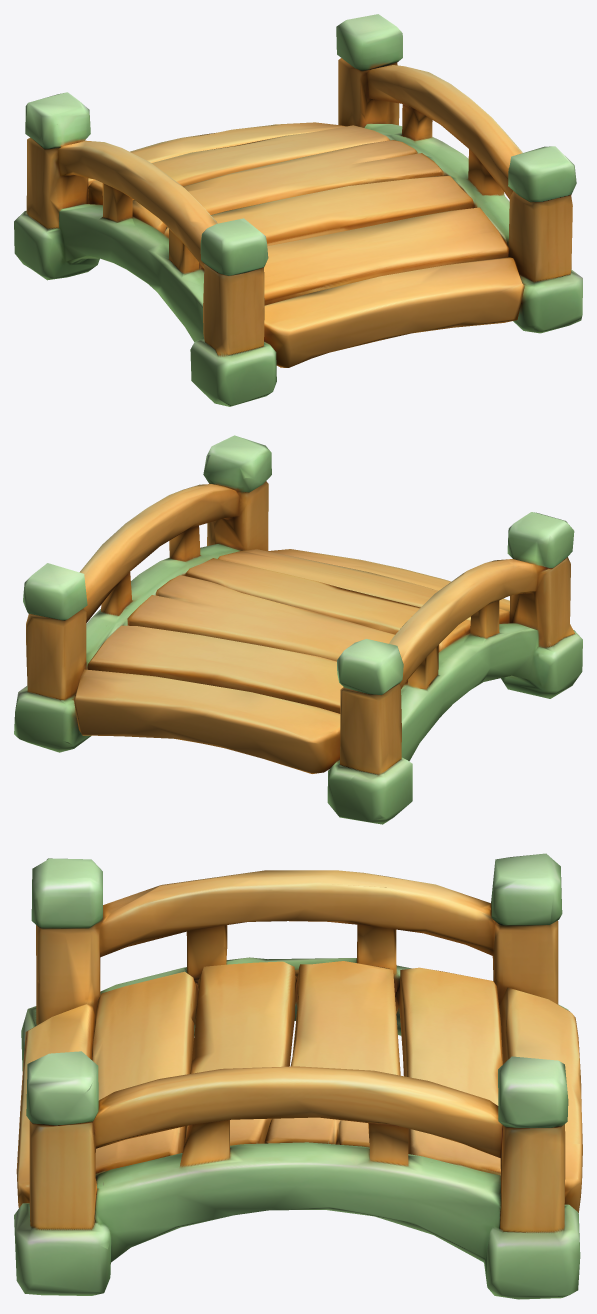
File: Kit_M_Bridge_raw.glb
3 renders of one model, top to bottom at view 1: azimuth 30°, elevation 25°; view 2: azimuth 150°, elevation 25°; view 3: azimuth 270°, elevation 25°, orthographic. The views are drawn at different scales.
Parts seen in each view (by area): view 1: tripo_node_6307bf91-bd18-4ad4-9b24-bd5ac74a7721; view 2: tripo_node_6307bf91-bd18-4ad4-9b24-bd5ac74a7721; view 3: tripo_node_6307bf91-bd18-4ad4-9b24-bd5ac74a7721.
Part boxes in pixels (box(x1,y1,x2,y2)): tripo_node_6307bf91-bd18-4ad4-9b24-bd5ac74a7721: box(14, 14, 582, 406); tripo_node_6307bf91-bd18-4ad4-9b24-bd5ac74a7721: box(14, 435, 582, 824); tripo_node_6307bf91-bd18-4ad4-9b24-bd5ac74a7721: box(14, 853, 582, 1299).
Size of the model in its own units: 0.9999 by 0.426 by 1.
Materials: 1 (1 with a texture image).
